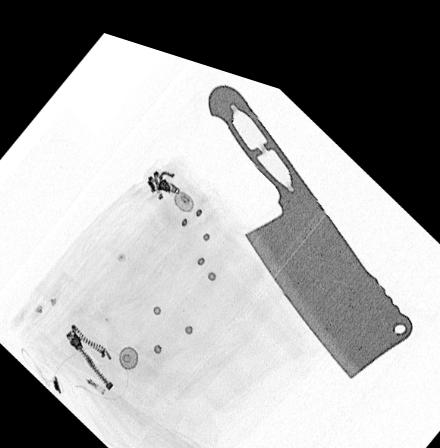Knife: (205, 67, 412, 359)
